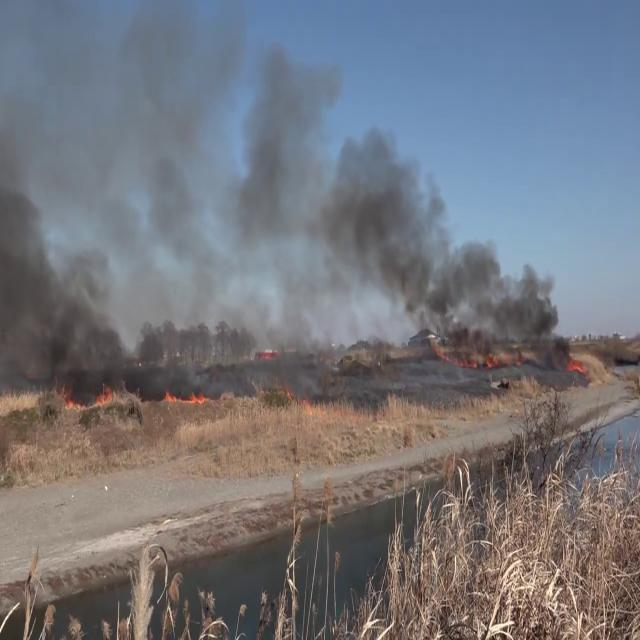Fire: (61, 376, 125, 414)
Smoke: (0, 0, 568, 357)
